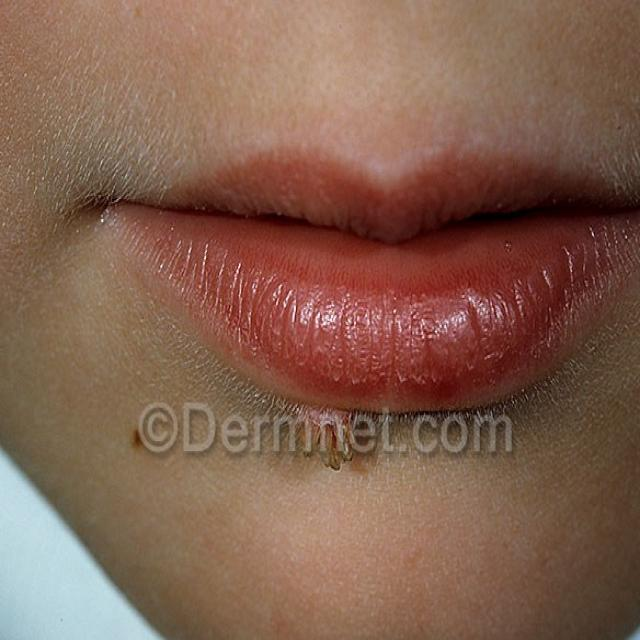Warts: (298, 382, 432, 522), (126, 406, 170, 476)
